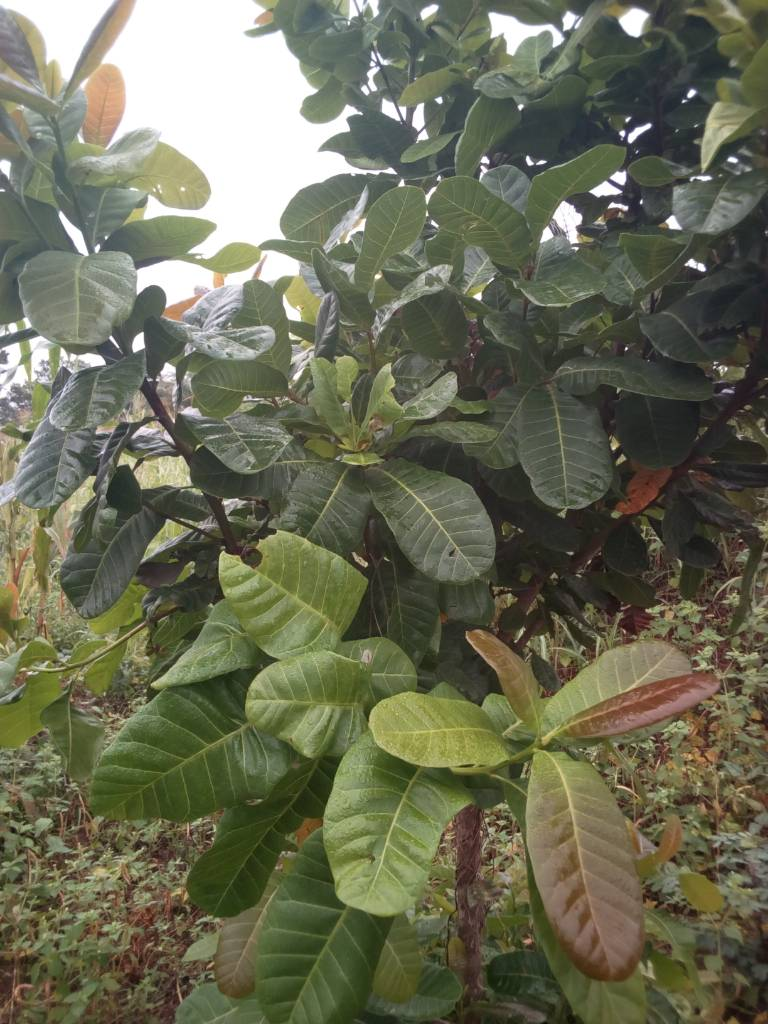Helopeltis anacardii: (241, 649, 382, 757)
